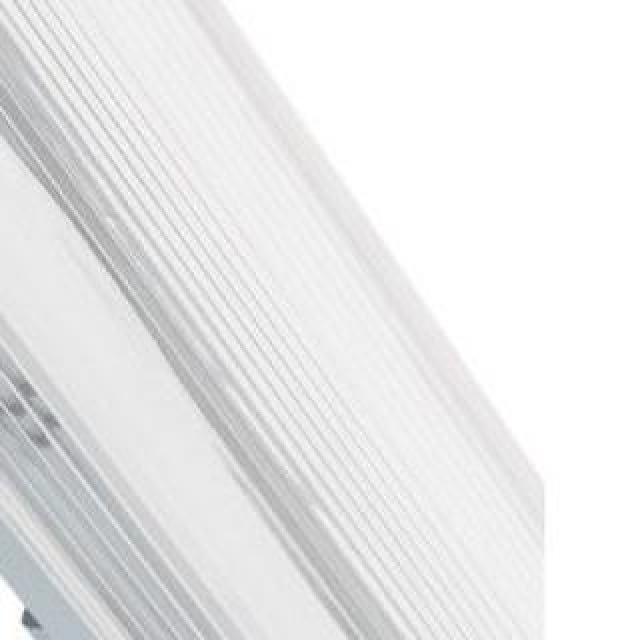fluorescent tube: (0, 0, 516, 624), (0, 0, 436, 614)
